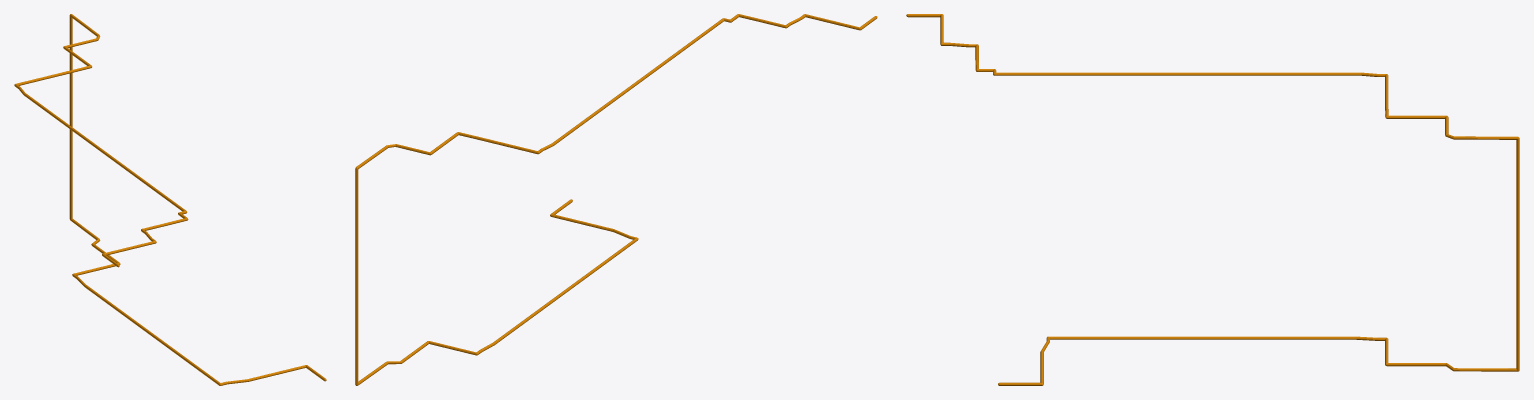
The picture shows the model from 3 angles, left to right: view 1: azimuth 30°, elevation 25°; view 2: azimuth 150°, elevation 25°; view 3: azimuth 270°, elevation 25°; orthographic projection. The views are drawn at different scales.
Size of the model in its own units: 1922 by 1520 by 3598.
